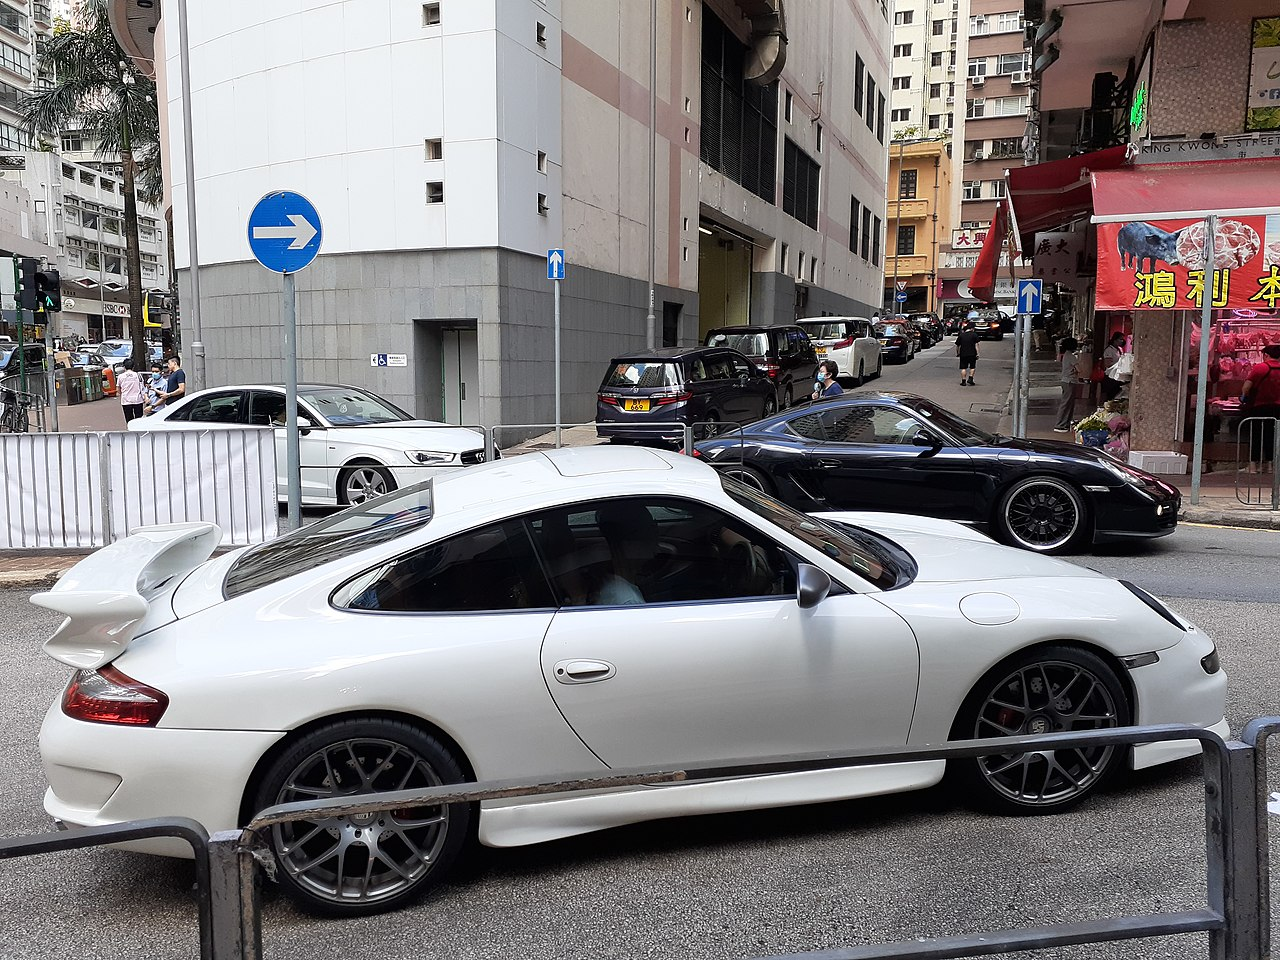Give Way: (896, 282, 908, 291)
One Way Traffic: (1017, 281, 1042, 316), (547, 249, 566, 281)
Turn Left: (896, 293, 907, 303)
Turn Right: (242, 188, 329, 272)
